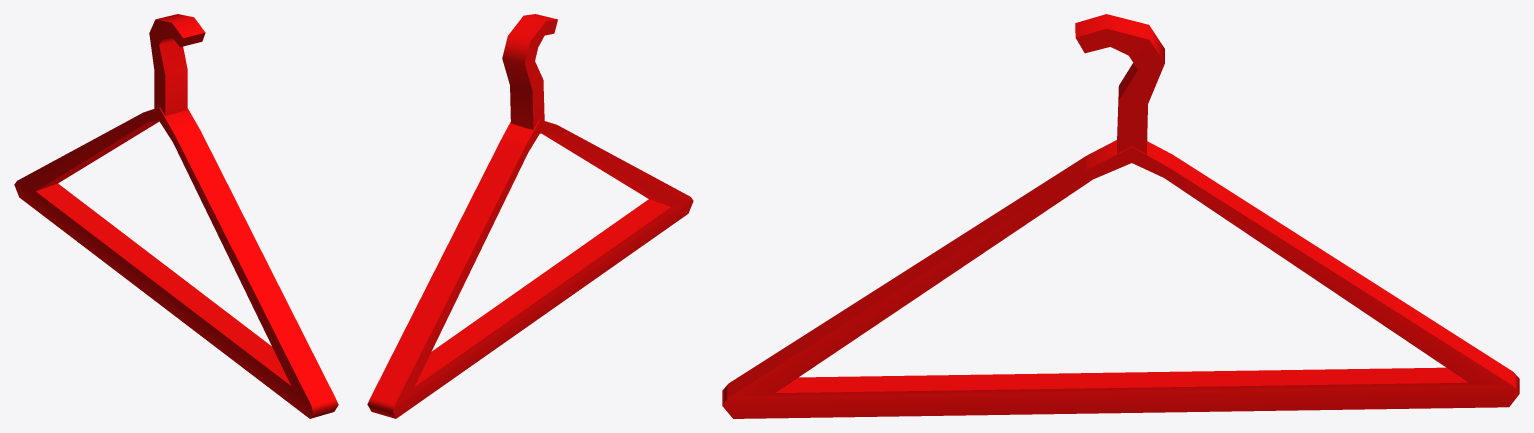
The model's file is coathanger.fbx.
3 views of the same model, side by side, from view 1: azimuth 30°, elevation 25°; view 2: azimuth 150°, elevation 25°; view 3: azimuth 270°, elevation 25° (orthographic). The views are drawn at different scales.
Parts seen in each view (by area): view 1: CoatHanger2; view 2: CoatHanger2; view 3: CoatHanger2.
Boxes of the visible parts, x1,y1,x2,y2 form: CoatHanger2: (14, 14, 338, 418); CoatHanger2: (367, 14, 693, 418); CoatHanger2: (722, 14, 1519, 418).
Size of the model in its own units: 36.95 by 392 by 724.
1 material, 1 textured.
